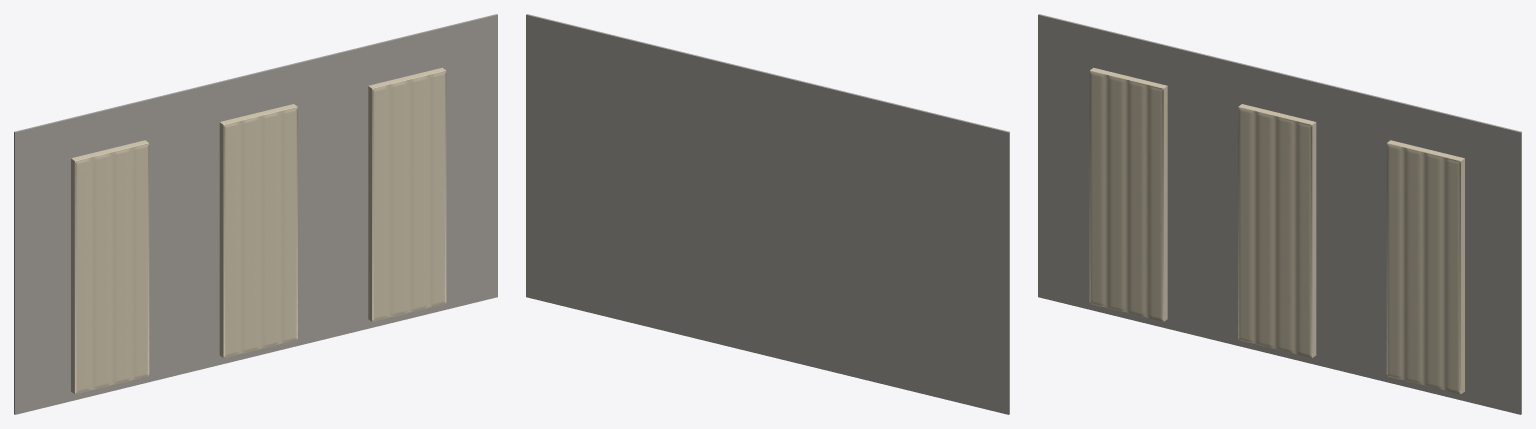
File: terilgan.glb
The picture shows the model from 3 angles, left to right: view 1: azimuth 30°, elevation 25°; view 2: azimuth 150°, elevation 25°; view 3: azimuth 330°, elevation 25°; orthographic projection.
Visible parts, largest first — view 1: Devor, t1, t2, t0; view 2: Devor; view 3: Devor, t1, t0, t2.
Part boxes in pixels (<box>): Devor: <box>14,14,497,414</box>; t1: <box>219,104,297,357</box>; t2: <box>368,67,446,321</box>; t0: <box>71,140,149,393</box>; Devor: <box>526,14,1009,414</box>; Devor: <box>1038,14,1521,414</box>; t1: <box>1238,104,1316,357</box>; t0: <box>1089,67,1167,321</box>; t2: <box>1386,140,1464,393</box>.
Size of the model in its own units: 2.6 by 1.45 by 0.0519.
